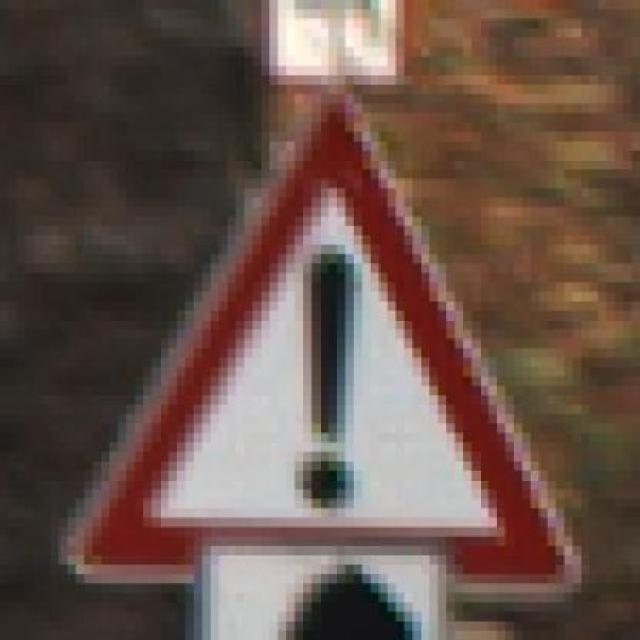Attention Please-: (58, 85, 590, 612)
